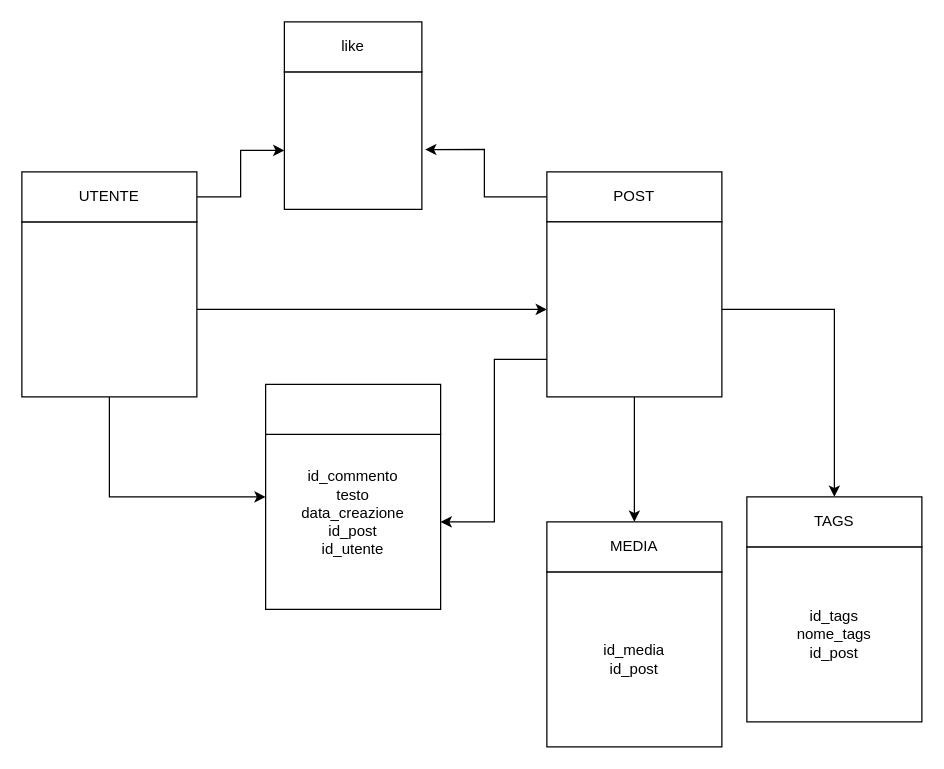
The diagram is 944 pixels wide and 769 high, and some of its shapes have lost their labels. The shapes that lost their labels are listed below. From the top down, each one's centre as x and y in pixels, then its label:
At (352,140): "data_creazione id_utente id_post".
At (109,309): "id_utente nome data_di_nascita email password data_creazione".
At (634,309): "id_post contenuto data_creazione id_utente".
At (352,408): "COMMENTI".
